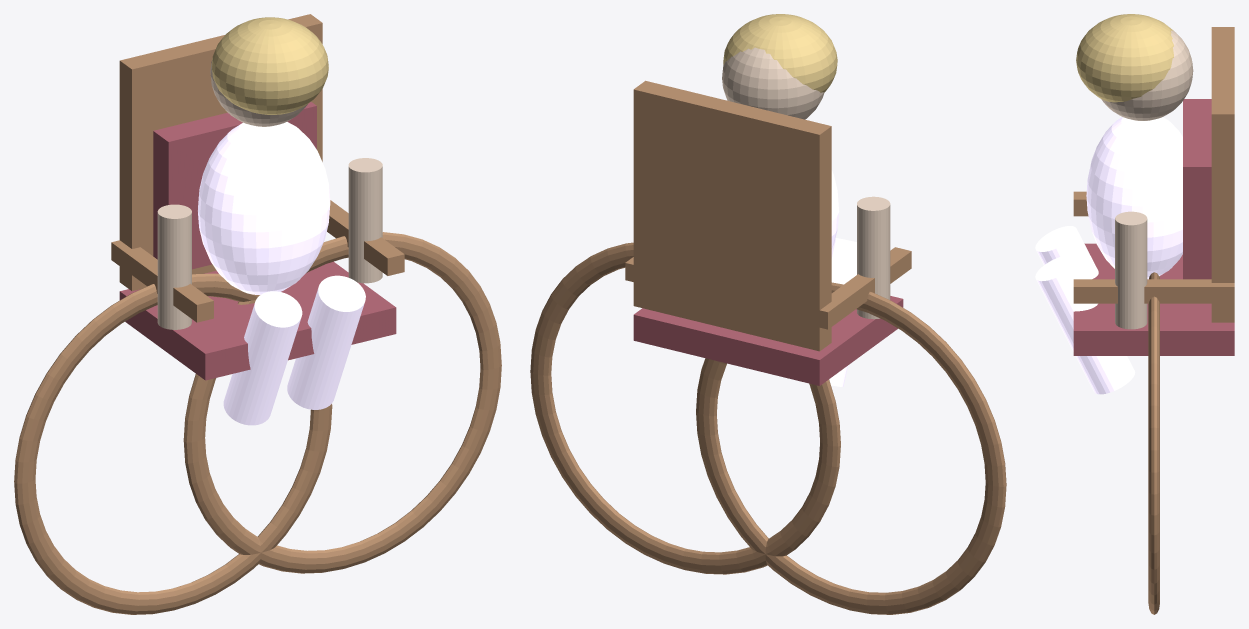
File: AnastasiaRocker.fbx
The picture shows the model from 3 angles, left to right: view 1: azimuth 30°, elevation 25°; view 2: azimuth 150°, elevation 25°; view 3: azimuth 270°, elevation 25°; orthographic projection. The views are drawn at different scales.
Parts seen in each view (by area): view 1: AnastasiaRocker; view 2: AnastasiaRocker; view 3: AnastasiaRocker.
Part boxes in pixels (bbox=[...]): AnastasiaRocker: bbox=[14, 14, 501, 614]; AnastasiaRocker: bbox=[530, 14, 1006, 614]; AnastasiaRocker: bbox=[1035, 14, 1234, 614].
Bounding box in the file's own units: 2.3 × 2.59 × 0.8674.
